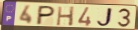3: (116, 7, 133, 28)
4: (77, 6, 93, 28), (18, 5, 34, 27)
H: (55, 6, 76, 27)
J: (95, 6, 114, 28)
P: (34, 5, 57, 26)
